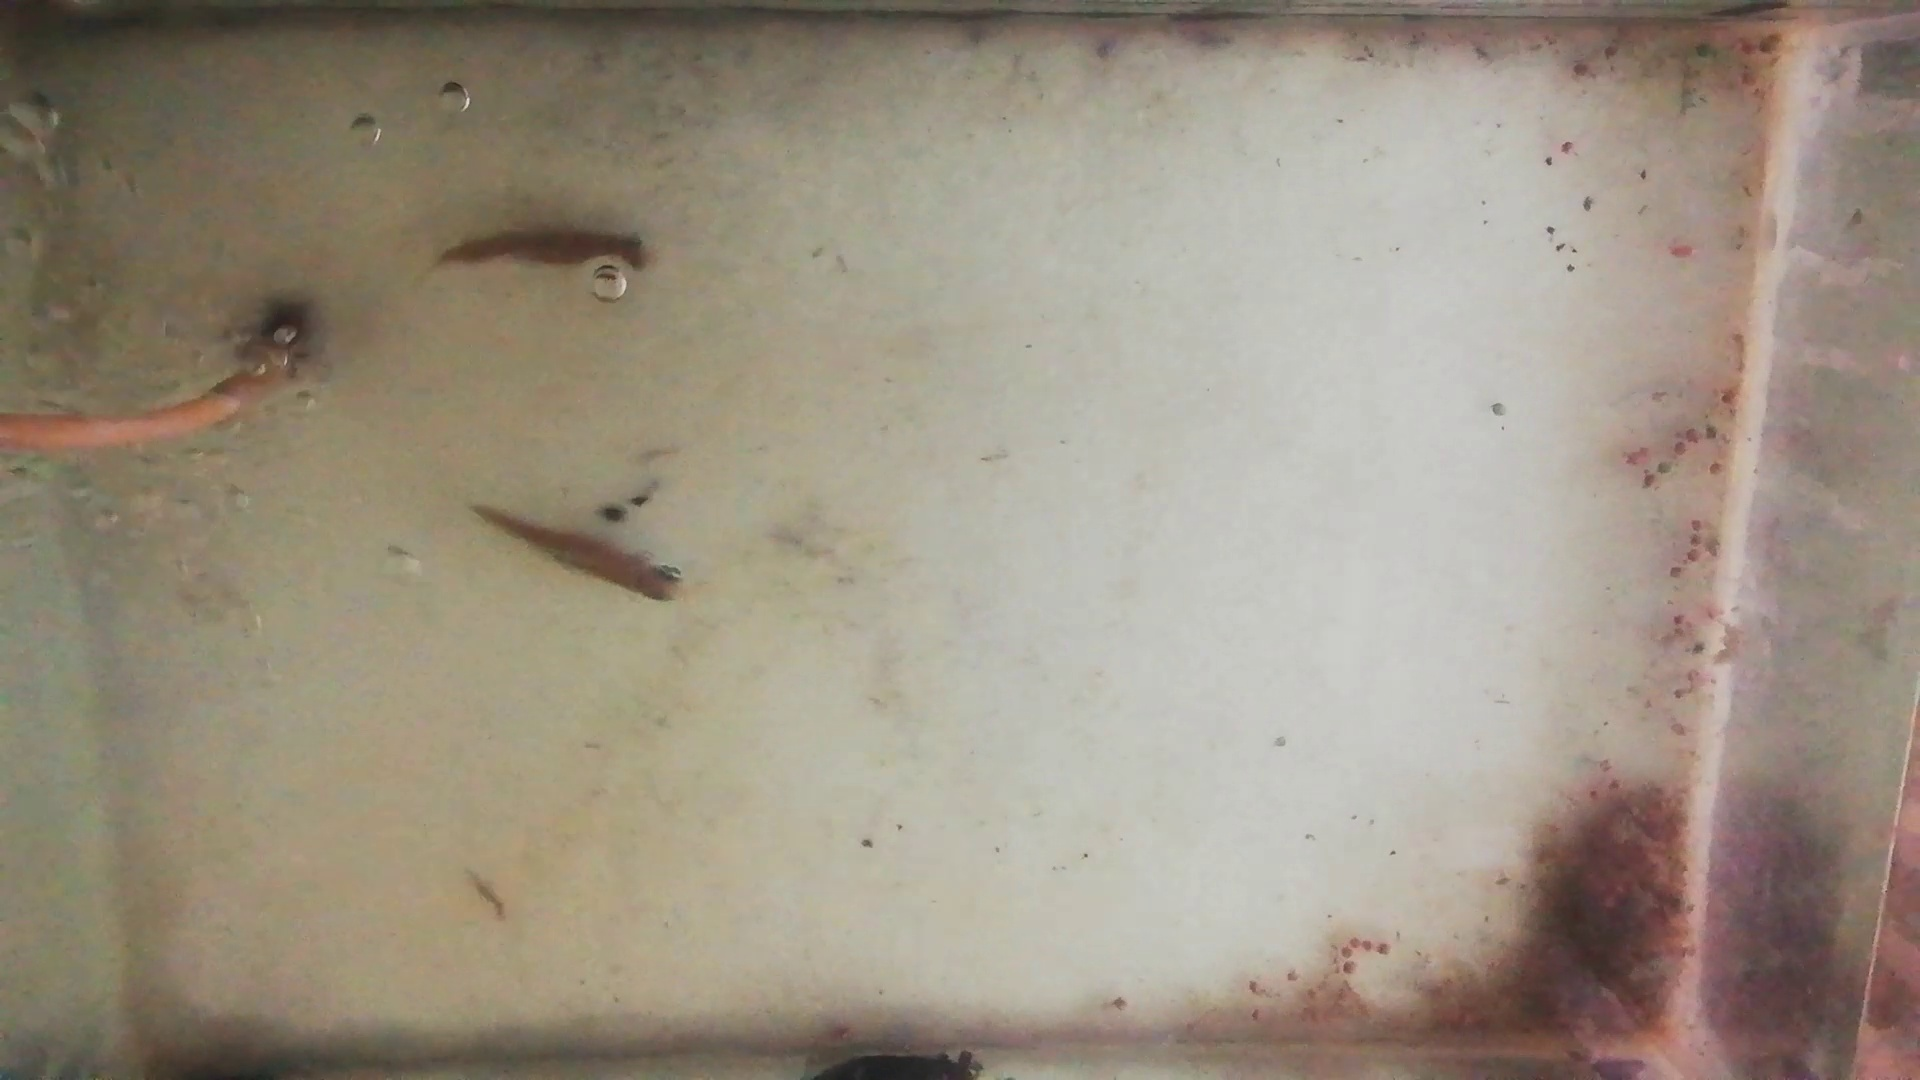fish: (473, 502, 691, 611), (440, 229, 657, 280)
